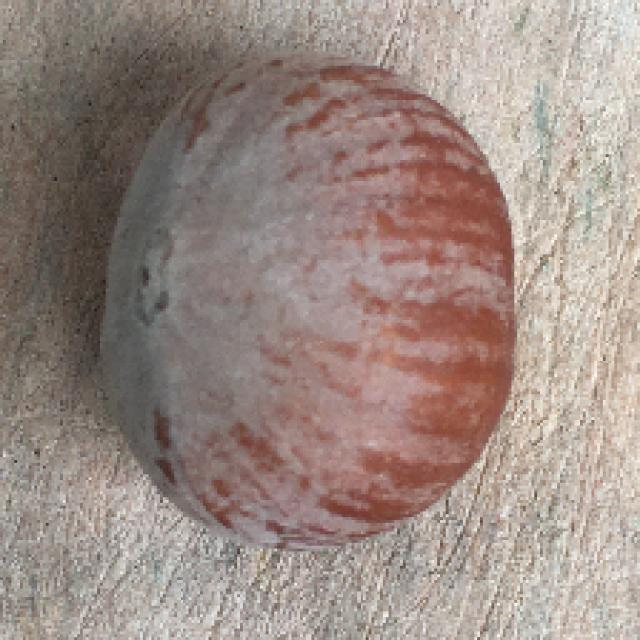qualityHazelnut: (94, 50, 519, 550)
